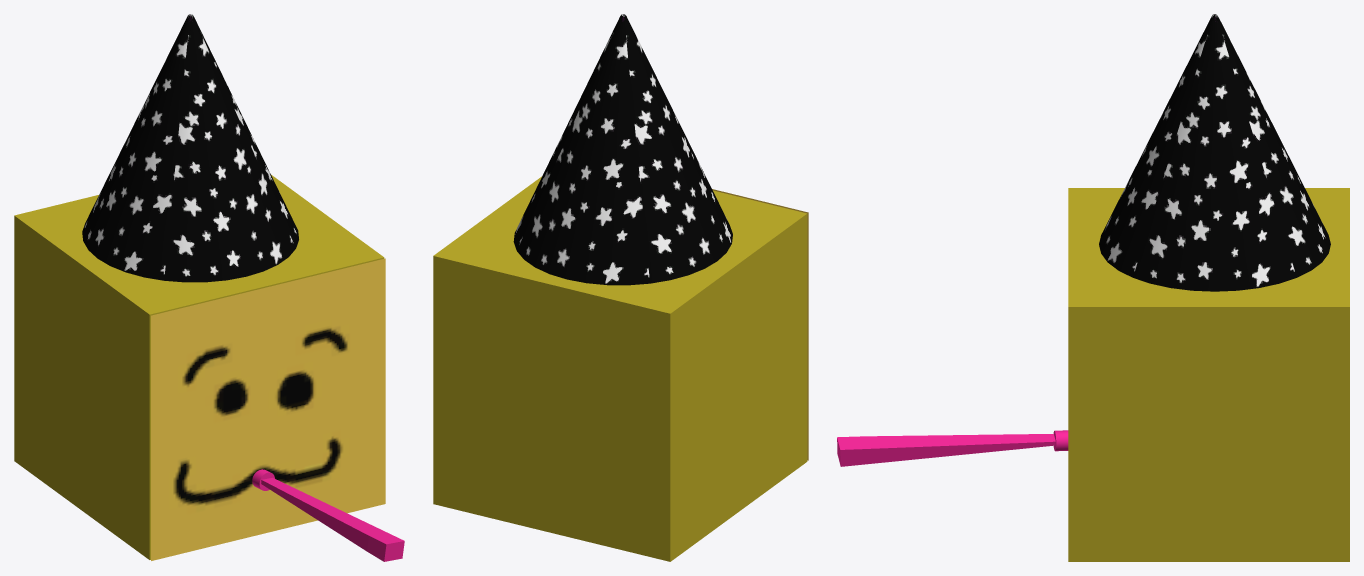
File: partypet.obj
3 renders of one model, left to right at view 1: azimuth 30°, elevation 25°; view 2: azimuth 150°, elevation 25°; view 3: azimuth 270°, elevation 25°, orthographic. The views are drawn at different scales.
Parts seen in each view (by area): view 1: Partypet13mesh2, Partypet13mesh1, Meshescone12, Meshescone13, Union1, Meshescone14; view 2: Partypet13mesh1, Meshescone15, Meshescone13, Meshescone14, Partypet13mesh2; view 3: Partypet13mesh1, Meshescone14, Meshescone12, Meshescone15, Union1.
Boxes of the visible parts, x1,y1,x2,y2 form: Partypet13mesh2: (151,258,385,560); Partypet13mesh1: (14,174,384,559); Meshescone12: (164,16,295,282); Meshescone13: (82,15,189,280); Union1: (252,469,404,561); Meshescone14: (191,14,298,247); Partypet13mesh1: (433,176,807,561); Meshescone15: (517,16,649,285); Meshescone13: (624,15,732,283); Meshescone14: (513,14,622,250); Partypet13mesh2: (712,189,808,460); Partypet13mesh1: (1068,188,1349,561); Meshescone14: (1133,16,1296,291); Meshescone12: (1099,15,1212,277); Meshescone15: (1217,15,1330,277); Union1: (837,430,1068,466).
Size of the model in its own units: 2 by 3.8 by 3.64.
7 materials, 4 textured.
